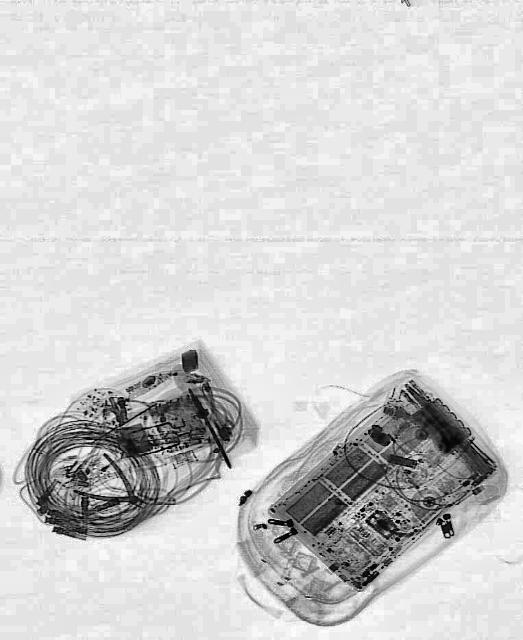Pliers: (70, 446, 156, 530)
